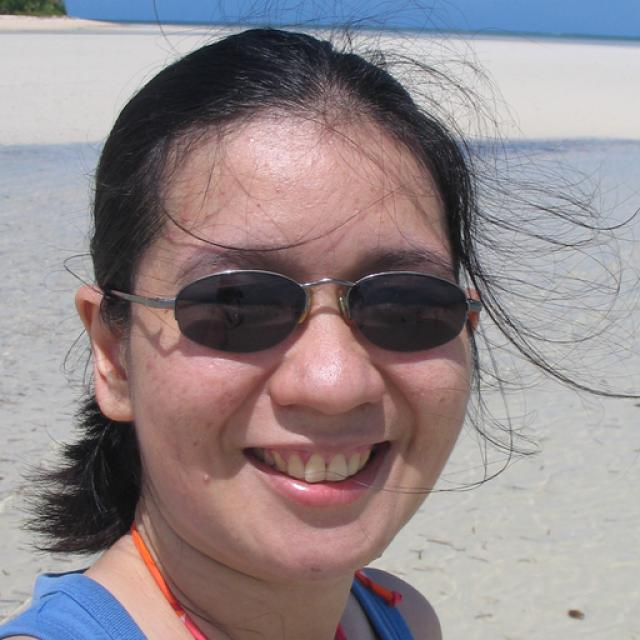Acne: (236, 130, 266, 150), (196, 461, 219, 487)
